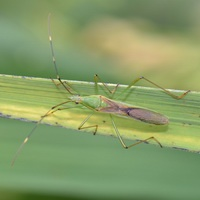insect: (10, 14, 189, 167)
